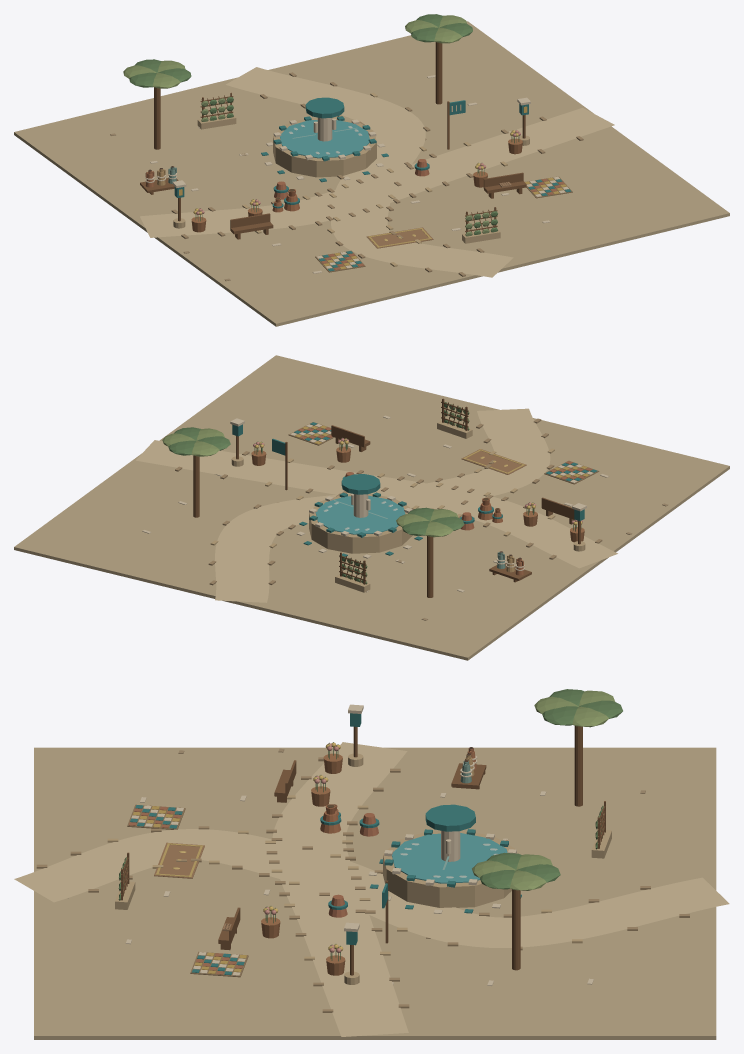
File: city-fountain.glb
3 views of the same model, one above another, from view 1: azimuth 30°, elevation 25°; view 2: azimuth 150°, elevation 25°; view 3: azimuth 270°, elevation 25° (orthographic). The views are drawn at different scales.
Parts seen in each view (by area): view 1: city-fountain; view 2: city-fountain; view 3: city-fountain.
Part boxes in pixels (x1,y1,x2,y2): city-fountain: (14,14,729,326); city-fountain: (14,355,729,660); city-fountain: (14,689,729,1039).
Bounding box in the file's own units: 32.74 × 5.44 × 33.58.
